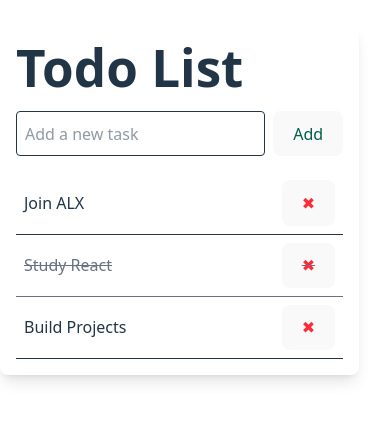
Test case: TodoList Component › adds a new todo
This screenshot has width=375, height=432.
Type "New Task" into the field with placeholder "Add a new task" at (140, 134), box left=16, top=111, right=265, bottom=156
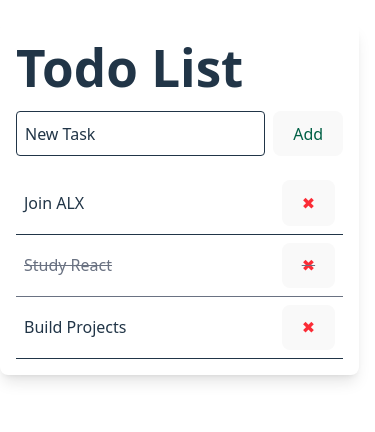
Click the button "Add" at (308, 134), box left=273, top=111, right=343, bottom=156
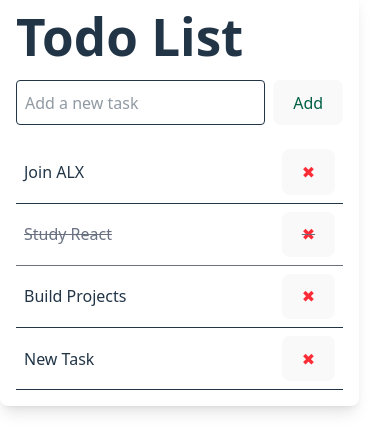
Result: the list item "New Task" is shown at left=24, top=348, right=94, bottom=370
